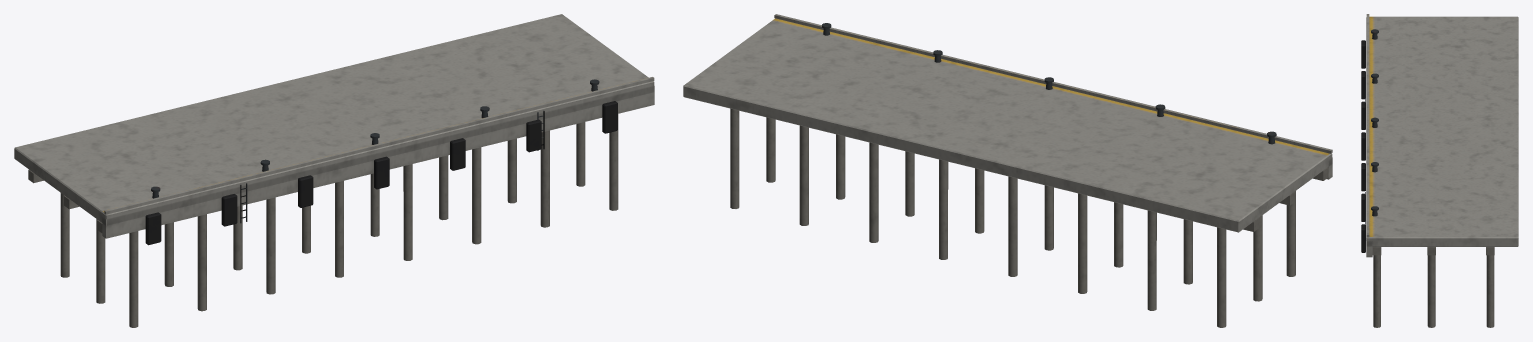
The model's file is harbour-quay.fbx.
The picture shows the model from 3 angles, left to right: view 1: azimuth 30°, elevation 25°; view 2: azimuth 150°, elevation 25°; view 3: azimuth 270°, elevation 25°; orthographic projection. The views are drawn at different scales.
Parts seen in each view (by area): view 1: harbour-quay; view 2: harbour-quay; view 3: harbour-quay.
Part boxes in pixels (<box>): harbour-quay: <box>14,14,654,327</box>; harbour-quay: <box>683,14,1332,327</box>; harbour-quay: <box>1361,14,1518,327</box>.
Bounding box in the file's own units: 6720 × 1562 × 2024.
Materials: 1 (1 with a texture image).
